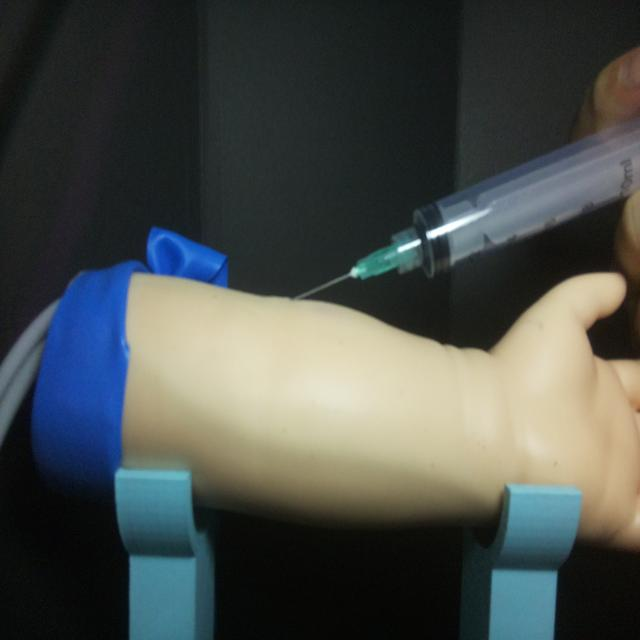17deg: (289, 115, 640, 300)
